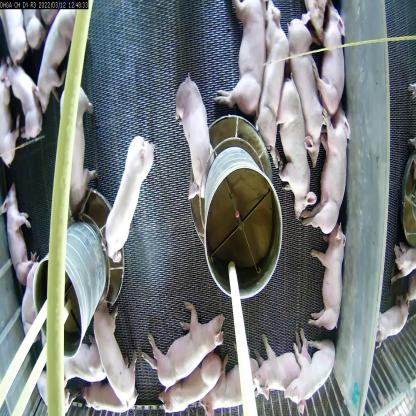Pig: (103, 133, 159, 275), (138, 300, 223, 380), (213, 0, 266, 117), (287, 14, 326, 168), (278, 78, 318, 218), (92, 293, 140, 409), (255, 0, 289, 161), (58, 69, 91, 229), (313, 111, 349, 241), (153, 356, 226, 416), (310, 223, 350, 330), (284, 331, 336, 411), (36, 4, 76, 106), (252, 336, 312, 402), (3, 176, 38, 280), (198, 361, 261, 416), (317, 1, 345, 124), (8, 65, 48, 151), (78, 371, 126, 415), (58, 349, 107, 388)
